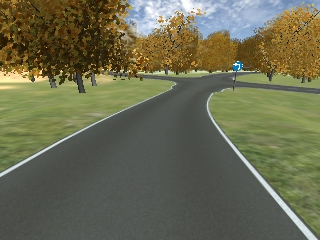left: (232, 60, 244, 71)
